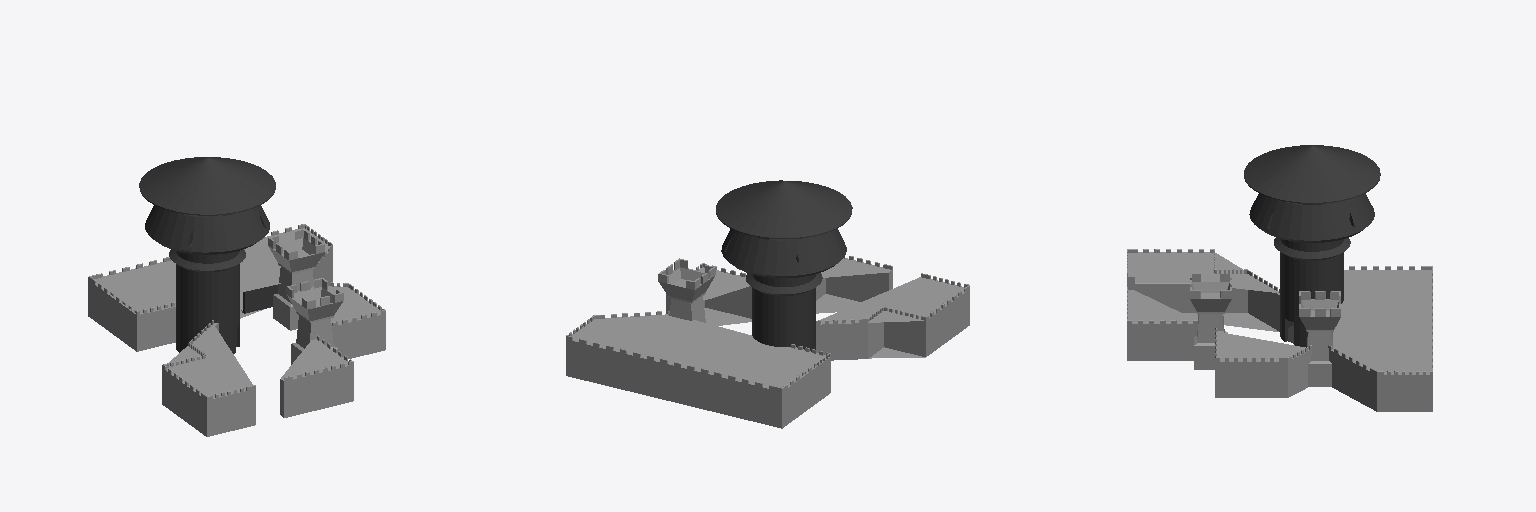
Rendered from castle.obj.
The picture shows the model from 3 angles: view 1: azimuth 30°, elevation 25°; view 2: azimuth 150°, elevation 25°; view 3: azimuth 270°, elevation 25°; orthographic projection.
Visible parts, largest first — view 1: OuterWall_Wall, RoundTower_Cylinder, SquareTower2_Plane.001, SquareTower1_Plane, InnerBuilding_Plane.002; view 2: OuterWall_Wall, RoundTower_Cylinder, SquareTower2_Plane.001; view 3: OuterWall_Wall, RoundTower_Cylinder, SquareTower2_Plane.001, SquareTower1_Plane.
Boxes of the visible parts, x1,y1,x2,y2 form: OuterWall_Wall: [88, 224, 385, 436]; RoundTower_Cylinder: [139, 157, 275, 353]; SquareTower2_Plane.001: [268, 229, 324, 330]; SquareTower1_Plane: [286, 278, 343, 364]; InnerBuilding_Plane.002: [241, 284, 278, 313]; OuterWall_Wall: [566, 256, 969, 428]; RoundTower_Cylinder: [716, 180, 852, 351]; SquareTower2_Plane.001: [658, 258, 715, 322]; OuterWall_Wall: [1127, 249, 1432, 411]; RoundTower_Cylinder: [1244, 145, 1380, 347]; SquareTower2_Plane.001: [1299, 291, 1340, 386]; SquareTower1_Plane: [1190, 274, 1231, 369].
Bounding box in the file's own units: 36 × 25.83 × 38.